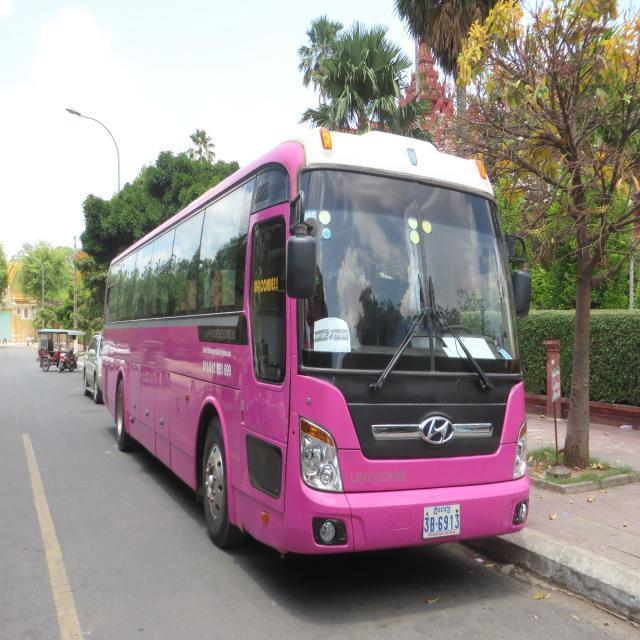Phnom_Penh: (431, 504, 452, 515)
